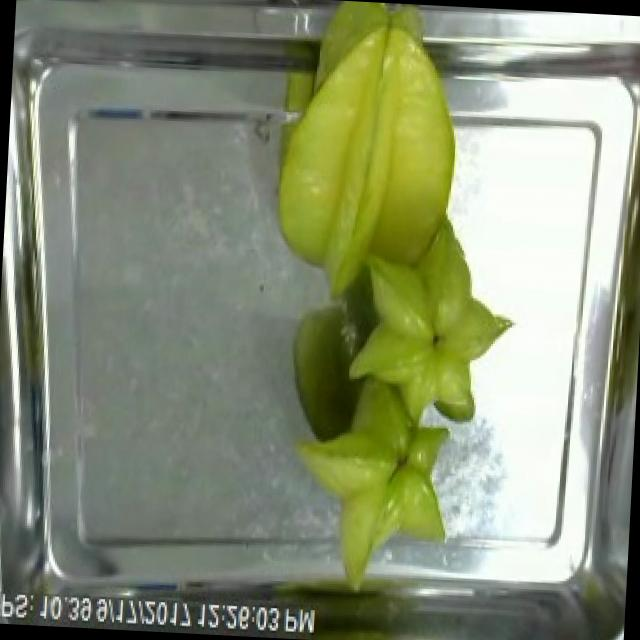fruit: (262, 0, 476, 305), (336, 188, 528, 437), (289, 371, 465, 607)
